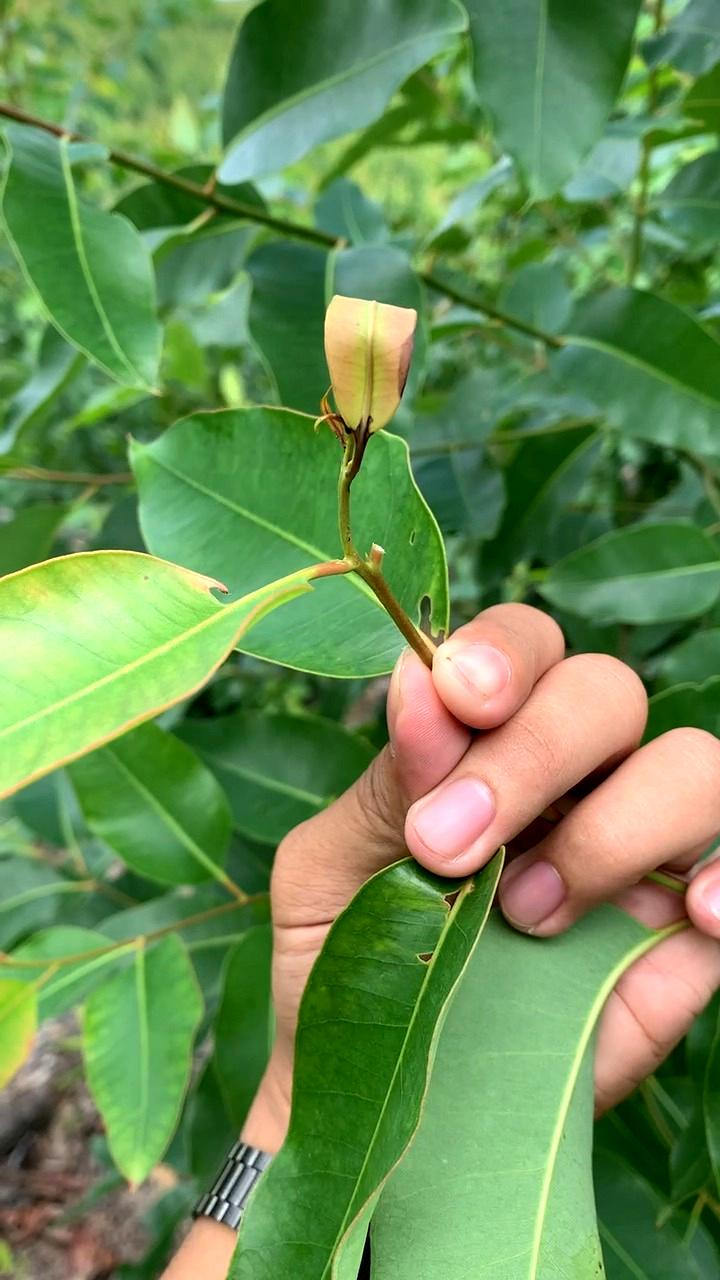Helopeltis-Withered Sprout: (318, 298, 423, 464)
